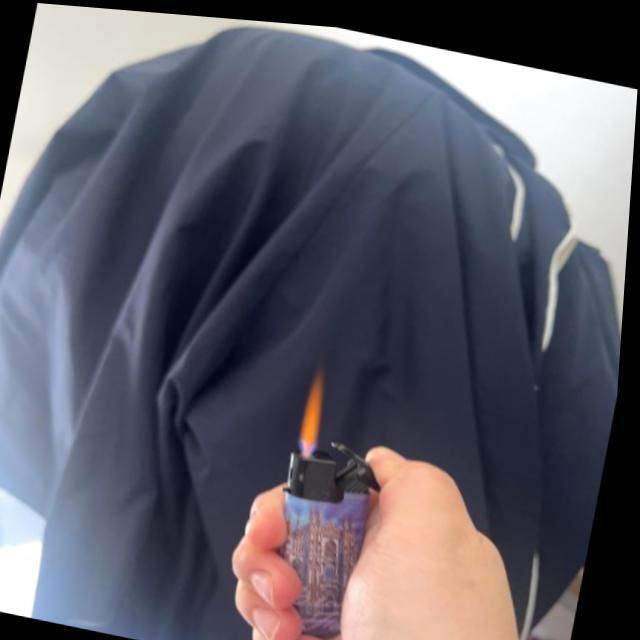fire: (300, 363, 336, 453)
